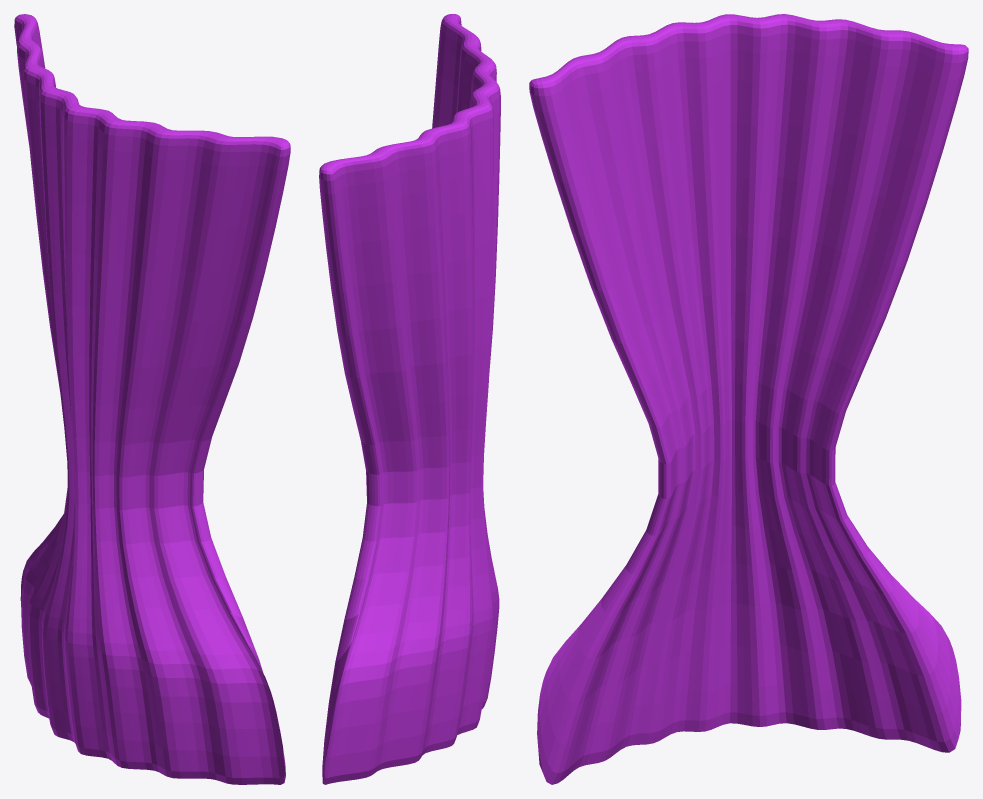
The model's file is UMUM_TIRAI_CURVE.fbx.
3 renders of one model, left to right at view 1: azimuth 30°, elevation 25°; view 2: azimuth 150°, elevation 25°; view 3: azimuth 270°, elevation 25°, orthographic. The views are drawn at different scales.
Parts seen in each view (by area): view 1: Cube.247; view 2: Cube.247; view 3: Cube.247.
Boxes of the visible parts, left/top/right/bottom form: Cube.247: left=14, top=14, right=290, bottom=784; Cube.247: left=319, top=14, right=500, bottom=784; Cube.247: left=529, top=14, right=968, bottom=784.
Size of the model in its own units: 115 by 519 by 293.
